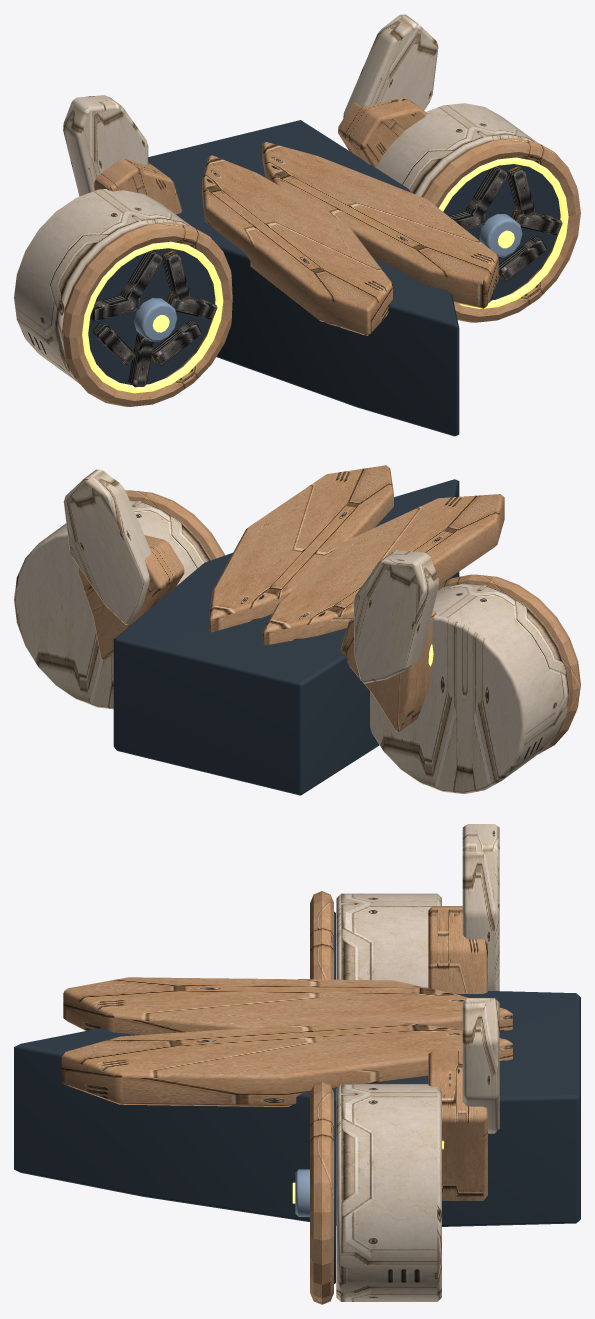
Rendered from flyer.glb.
3 renders of one model, top to bottom at view 1: azimuth 30°, elevation 25°; view 2: azimuth 150°, elevation 25°; view 3: azimuth 270°, elevation 25°, orthographic. The views are drawn at different scales.
Parts seen in each view (by area): view 1: Split arrow nose, Pointed interceptor chassis, Swept dorsal vane, Turbine impeller blade, Turbine running light, Turbine hub; view 2: Swept dorsal vane, Pointed interceptor chassis, Split arrow nose; view 3: Split arrow nose, Pointed interceptor chassis, Swept dorsal vane, Turbine hub.
Boxes of the visible parts, x1,y1,x2,y2 form: Split arrow nose: (62,98,580,406); Pointed interceptor chassis: (88,120,560,436); Swept dorsal vane: (14,14,536,383); Turbine impeller blade: (90,165,562,387); Turbine running light: (82,157,568,393); Turbine hub: (134,214,522,341); Swept dorsal vane: (14,469,569,793); Pointed interceptor chassis: (113,479,459,795); Split arrow nose: (78,465,580,753); Split arrow nose: (61,891,513,1304); Pointed interceptor chassis: (14,911,580,1284); Swept dorsal vane: (336,824,499,1301); Turbine hub: (295,979,309,1216).
Size of the model in its own units: 1.47 by 0.6893 by 1.23.
Materials: 7 (3 with a texture image).
